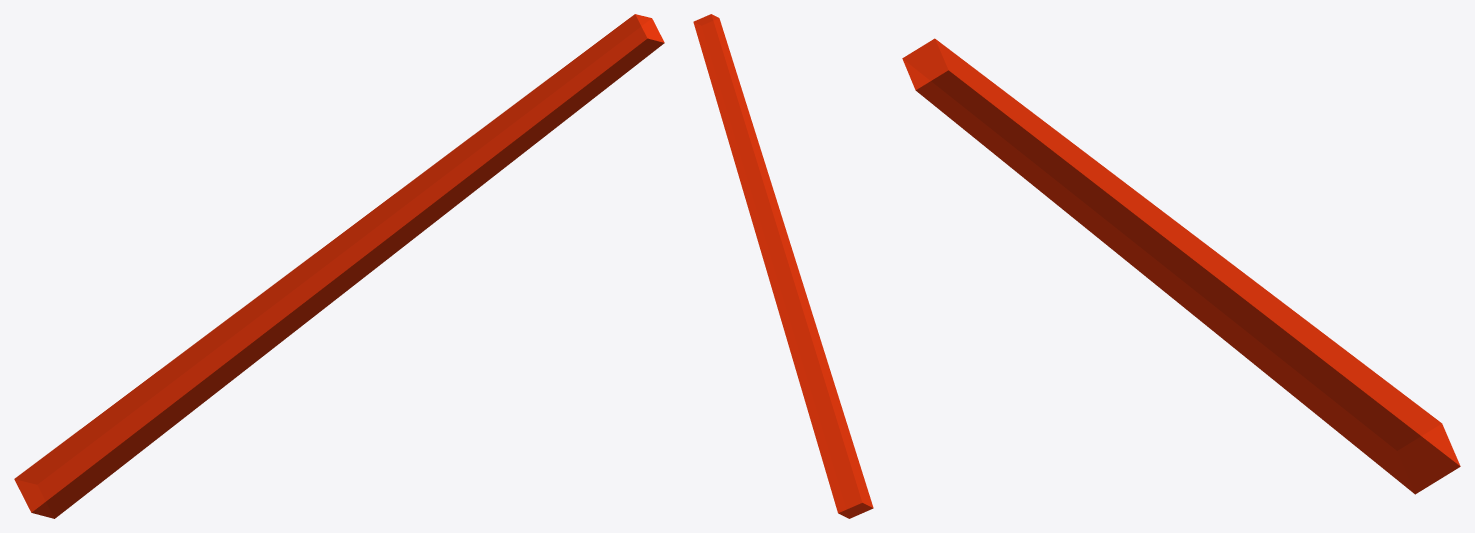
Rendered from Event_421127236_EBrechit_18.fbx.
The picture shows the model from 3 angles, left to right: view 1: azimuth 30°, elevation 25°; view 2: azimuth 150°, elevation 25°; view 3: azimuth 270°, elevation 25°; orthographic projection. The views are drawn at different scales.
Parts seen in each view (by area): view 1: Model; view 2: Model; view 3: Model.
Part boxes in pixels (left/top/right/bottom): Model: left=14, top=14, right=664, bottom=518; Model: left=693, top=14, right=873, bottom=518; Model: left=902, top=38, right=1460, bottom=494.
Size of the model in its own units: 0.9489 by 1.1 by 0.7843.
